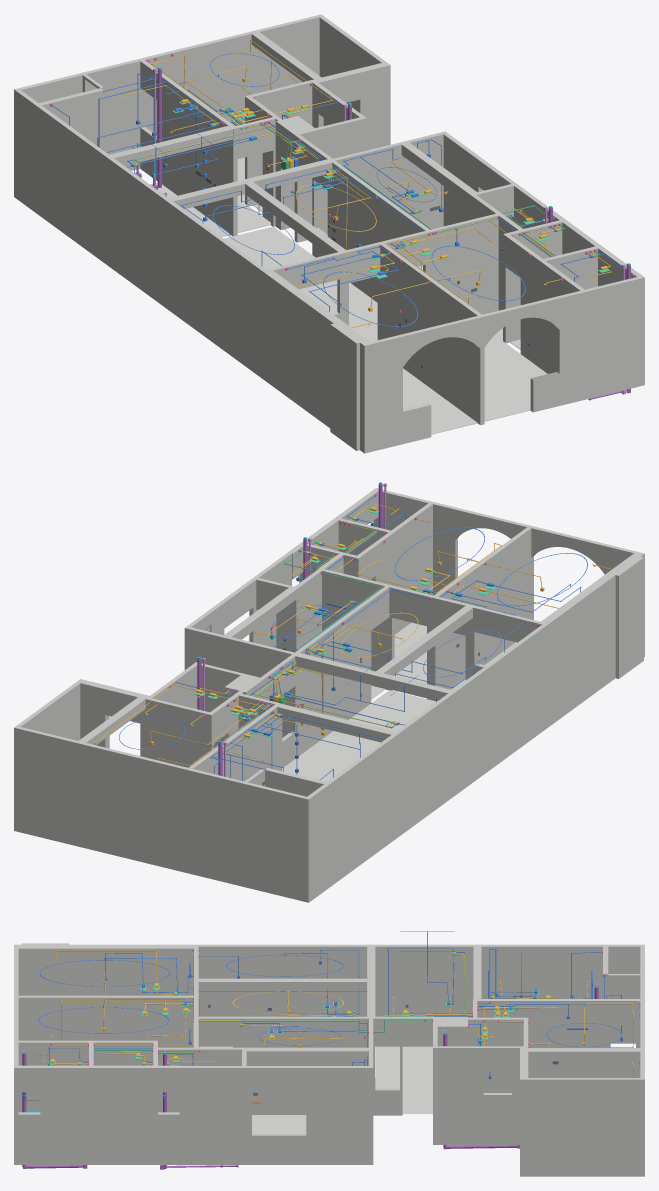
The picture shows the model from 3 angles, top to bottom: view 1: azimuth 30°, elevation 25°; view 2: azimuth 150°, elevation 25°; view 3: azimuth 270°, elevation 25°; orthographic projection. The views are drawn at different scales.
Visible parts, largest first — view 1: layer-17, layer-15, layer-26, layer-6, layer-25, layer-27, layer-19, layer-33, layer-8, layer-5, layer-0, layer-28; view 2: layer-17, layer-15, layer-26, layer-6, layer-27, layer-25, layer-19, layer-33, layer-8, layer-5, layer-0; view 3: layer-17, layer-15, layer-26, layer-6, layer-27, layer-33, layer-25, layer-19, layer-8, layer-0, layer-28, layer-5 (+1 smaller).
Boxes of the visible parts, box(x1,y1,x2,y2) form: layer-17: box(14, 14, 644, 453); layer-15: box(150, 157, 547, 434); layer-26: box(51, 73, 450, 311); layer-6: box(123, 39, 611, 327); layer-25: box(98, 81, 632, 281); layer-27: box(136, 53, 525, 326); layer-19: box(134, 107, 599, 257); layer-33: box(136, 69, 630, 400); layer-8: box(132, 108, 594, 257); layer-5: box(186, 67, 480, 307); layer-0: box(172, 101, 609, 278); layer-28: box(127, 108, 594, 258); layer-17: box(14, 488, 644, 902); layer-15: box(282, 622, 516, 781); layer-26: box(177, 558, 581, 780); layer-6: box(94, 504, 612, 766); layer-27: box(119, 527, 587, 772); layer-25: box(171, 495, 515, 780); layer-19: box(238, 516, 454, 726); layer-33: box(197, 484, 382, 775); layer-8: box(242, 517, 455, 727); layer-5: box(150, 551, 542, 745); layer-0: box(194, 510, 495, 738); layer-17: box(14, 943, 644, 1176); layer-15: box(198, 1046, 432, 1133); layer-26: box(103, 931, 621, 1065); layer-6: box(42, 950, 633, 1077); layer-27: box(38, 931, 622, 1046); layer-33: box(22, 987, 598, 1169); layer-25: box(24, 948, 592, 1095); layer-19: box(78, 952, 518, 1065); layer-8: box(78, 952, 517, 1064); layer-0: box(50, 986, 551, 1065); layer-28: box(78, 951, 518, 1062); layer-5: box(103, 972, 584, 1044).
Bounding box in the file's own units: 9.06 × 3.96 × 17.71.
